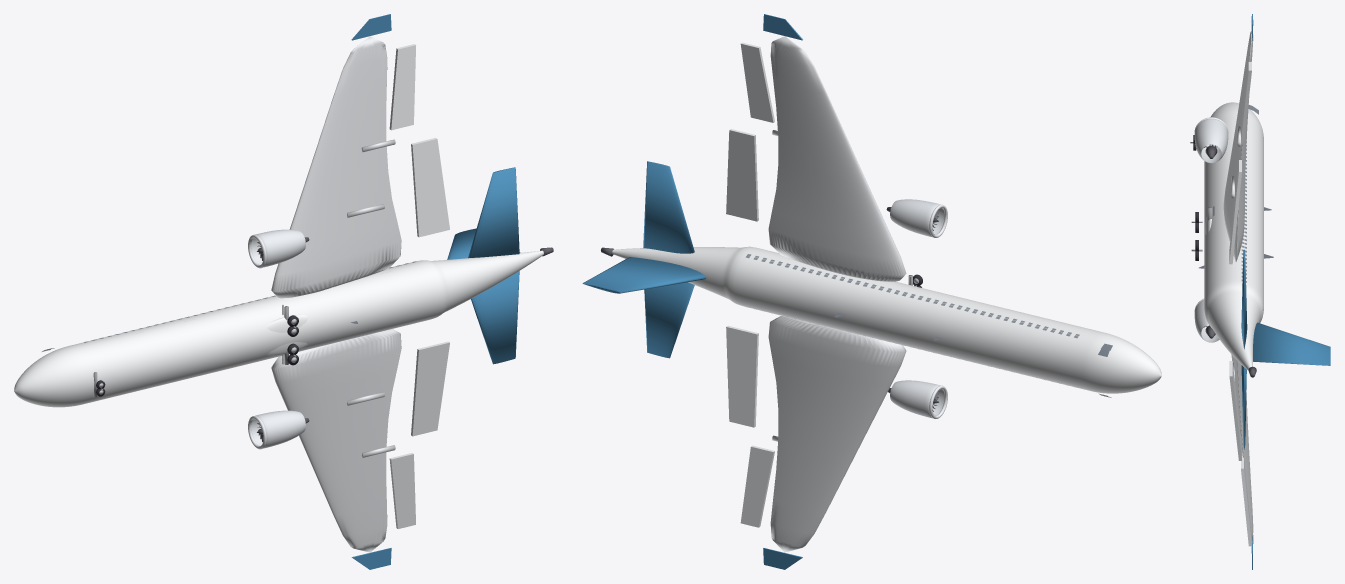
The picture shows the model from 3 angles, left to right: view 1: azimuth 30°, elevation 25°; view 2: azimuth 150°, elevation 25°; view 3: azimuth 270°, elevation 25°; orthographic projection.
Visible parts, largest first — view 1: Fuselage, Wing_R, Wing_L, HStab_R, HStab_L, Flap_R, Flap_L, Aileron_R, Aileron_L, Nacelle_-1_0, Nacelle_1_0; view 2: Fuselage, Wing_L, Wing_R, HStab_R, Flap_L, Fin, HStab_L, Flap_R, Aileron_L, Aileron_R, Nacelle_1_0, Nacelle_-1_0 (+1 smaller); view 3: Fuselage, Fin, Wing_R, Nacelle_1_0, Wing_L, Flap_R, Flap_L, Nacelle_-1_0, HStab_R, Aileron_L, Aileron_R, HStab_L (+1 smaller).
Part boxes in pixels (left/top/right/bottom): Fuselage: left=14, top=250, right=543, bottom=407; Wing_R: left=271, top=36, right=401, bottom=298; Wing_L: left=271, top=329, right=401, bottom=552; HStab_R: left=468, top=167, right=519, bottom=258; HStab_L: left=471, top=271, right=519, bottom=364; Flap_R: left=411, top=137, right=449, bottom=237; Flap_L: left=411, top=341, right=449, bottom=436; Aileron_R: left=389, top=44, right=415, bottom=130; Aileron_L: left=389, top=453, right=415, bottom=528; Nacelle_-1_0: left=251, top=410, right=305, bottom=448; Nacelle_1_0: left=251, top=229, right=305, bottom=267; Fuselage: left=612, top=246, right=1161, bottom=393; Wing_L: left=768, top=316, right=906, bottom=552; Wing_R: left=768, top=36, right=906, bottom=281; HStab_R: left=643, top=161, right=694, bottom=253; Flap_L: left=726, top=325, right=758, bottom=427; Fin: left=582, top=257, right=706, bottom=293; HStab_L: left=644, top=282, right=694, bottom=358; Flap_R: left=726, top=129, right=758, bottom=221; Aileron_L: left=740, top=445, right=774, bottom=527; Aileron_R: left=740, top=42, right=774, bottom=122; Nacelle_1_0: left=890, top=199, right=944, bottom=237; Nacelle_-1_0: left=890, top=380, right=944, bottom=418; Fuselage: left=1204, top=102, right=1263, bottom=370; Fin: left=1253, top=322, right=1330, bottom=365; Wing_R: left=1223, top=31, right=1253, bottom=261; Nacelle_1_0: left=1194, top=118, right=1228, bottom=163; Wing_L: left=1231, top=354, right=1253, bottom=542; Flap_R: left=1229, top=160, right=1241, bottom=264; Flap_L: left=1229, top=361, right=1241, bottom=460; Nacelle_-1_0: left=1194, top=300, right=1219, bottom=342; HStab_R: left=1241, top=249, right=1247, bottom=349; Aileron_L: left=1241, top=457, right=1251, bottom=546; Aileron_R: left=1241, top=62, right=1251, bottom=142; HStab_L: left=1241, top=365, right=1246, bottom=449.
Bounding box in the file's own units: 38.98 × 37.35 × 8.7.
